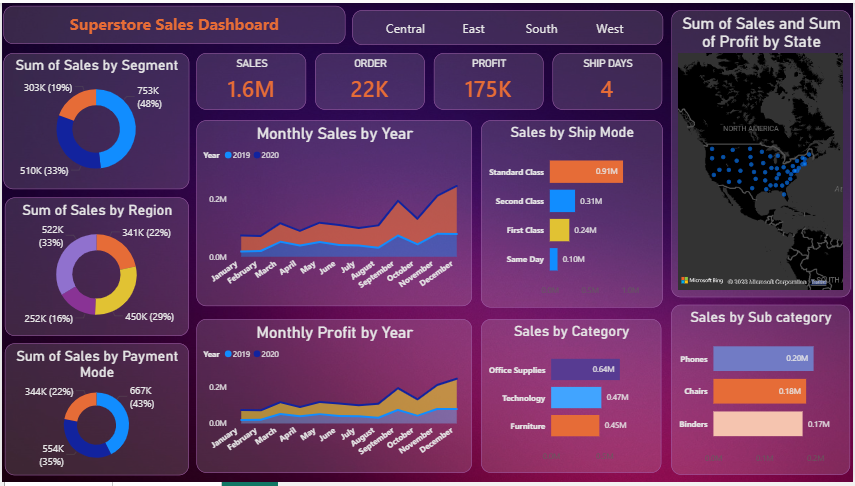

The page's visual inventory and layout, read from the dashboard file:
{"tool":"powerbi","page":{"name":"Page 1","canvas":[1280,720],"ordinal":0},"visuals":[{"type":"clusteredBarChart","title":"Sales by Category","fields":{"Category":["SuperStore_Sales_Dataset (2).Category"],"Y":["Sum(SuperStore_Sales_Dataset (2).Sales)"]},"box":[721.7,476.7,271.7,231.7],"z":0},{"type":"clusteredBarChart","title":"Sales by Ship Mode","fields":{"Y":["Sum(SuperStore_Sales_Dataset (2).Sales)"],"Category":["SuperStore_Sales_Dataset (2).Ship Mode"]},"box":[721.7,176.7,273.3,281.7],"z":1000},{"type":"clusteredBarChart","title":"Sales by Sub category","fields":{"Y":["Sum(SuperStore_Sales_Dataset (2).Sales)"],"Category":["SuperStore_Sales_Dataset (2).Sub-Category"]},"box":[1007,455,269,256],"z":2000},{"type":"stackedAreaChart","title":"Monthly Sales by Year","fields":{"Category":["SuperStore_Sales_Dataset (2).Order Date.Variation.Date Hierarchy.Month","SuperStore_Sales_Dataset (2).Order Date.Variation.Date Hierarchy.Day"],"Y":["Sum(SuperStore_Sales_Dataset (2).Sales)"],"Series":["SuperStore_Sales_Dataset (2).Order Date.Variation.Date Hierarchy.Year"]},"box":[292.5,177.5,415,280],"z":3000},{"type":"stackedAreaChart","title":"Monthly Profit by Year","fields":{"Category":["SuperStore_Sales_Dataset (2).Order Date.Variation.Date Hierarchy.Month","SuperStore_Sales_Dataset (2).Order Date.Variation.Date Hierarchy.Day"],"Y":["Sum(SuperStore_Sales_Dataset (2).Sales)"],"Series":["SuperStore_Sales_Dataset (2).Order Date.Variation.Date Hierarchy.Year"]},"box":[293.3,476.7,415,231.7],"z":4000},{"type":"map","fields":{"Category":["SuperStore_Sales_Dataset (2).State"]},"box":[1007.5,10,270,432.5],"z":5000},{"type":"donutChart","fields":{"Y":["Sum(SuperStore_Sales_Dataset (2).Sales)"],"Category":["SuperStore_Sales_Dataset (2).Segment"]},"box":[1.7,75,280,205],"z":6000},{"type":"donutChart","fields":{"Y":["Sum(SuperStore_Sales_Dataset (2).Sales)"],"Category":["SuperStore_Sales_Dataset (2).Payment Mode"]},"box":[5,511.7,276.7,198.3],"z":7000},{"type":"slicer","fields":{"Values":["SuperStore_Sales_Dataset (2).Region"]},"box":[527.5,10,467.5,52.5],"z":8000},{"type":"textbox","box":[2.5,5,515,57.5],"z":9000},{"type":"cardVisual","title":"SALES","fields":{"Data":["Sum(SuperStore_Sales_Dataset (2).Sales)"]},"box":[293.3,75,165,85],"z":10000},{"type":"cardVisual","title":"ORDER","fields":{"Data":["Sum(SuperStore_Sales_Dataset (2).Quantity)"]},"box":[471.7,75,165,85],"z":11000},{"type":"cardVisual","title":"PROFIT","fields":{"Data":["Sum(SuperStore_Sales_Dataset (2).Profit)"]},"box":[650,75,165,85],"z":12000},{"type":"cardVisual","title":"SHIP DAYS","fields":{"Data":["Avg(SuperStore_Sales_Dataset (2).AVG DELIVERY)"]},"box":[828.3,75,165,85],"z":13000},{"type":"donutChart","fields":{"Y":["Sum(SuperStore_Sales_Dataset (2).Sales)"],"Series":["SuperStore_Sales_Dataset (2).Region"]},"box":[3.3,293.3,276.7,208.3],"z":14000}]}

Visuals, with their boxes in screenshot pixels (x1, y1, x2, y2), scaled from the page's 1280x720 canvas onto the 855x486 screenshot:
"Sales by Category" clusteredBarChart: [482, 322, 664, 478]
"Sales by Ship Mode" clusteredBarChart: [482, 119, 665, 309]
"Sales by Sub category" clusteredBarChart: [673, 307, 852, 480]
"Monthly Sales by Year" stackedAreaChart: [195, 120, 473, 309]
"Monthly Profit by Year" stackedAreaChart: [196, 322, 473, 478]
map - SuperStore_Sales_Dataset (2).State: [673, 7, 853, 299]
donutChart - Sum(SuperStore_Sales_Dataset (2).Sales) x SuperStore_Sales_Dataset (2).Segment: [1, 51, 188, 189]
donutChart - Sum(SuperStore_Sales_Dataset (2).Sales) x SuperStore_Sales_Dataset (2).Payment Mode: [3, 345, 188, 479]
slicer - SuperStore_Sales_Dataset (2).Region: [352, 7, 665, 42]
textbox: [2, 3, 346, 42]
"SALES" cardVisual: [196, 51, 306, 108]
"ORDER" cardVisual: [315, 51, 425, 108]
"PROFIT" cardVisual: [434, 51, 544, 108]
"SHIP DAYS" cardVisual: [553, 51, 663, 108]
donutChart - Sum(SuperStore_Sales_Dataset (2).Sales) x SuperStore_Sales_Dataset (2).Region: [2, 198, 187, 339]
